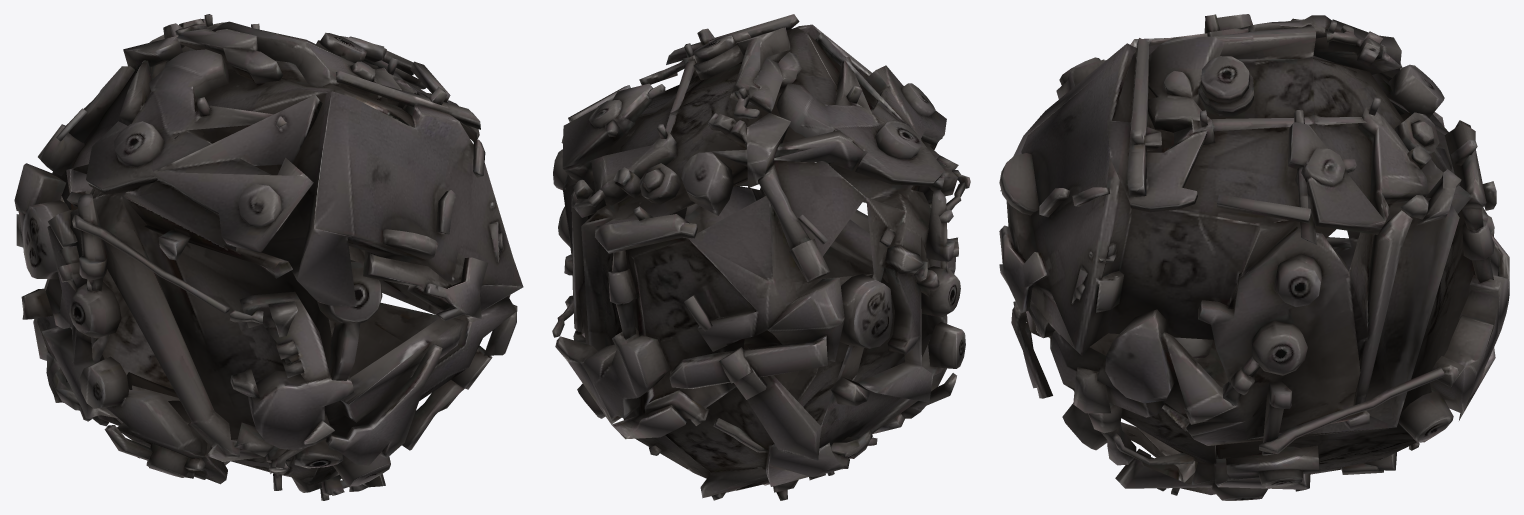
Rendered from original_glb.glb.
The picture shows the model from 3 angles, left to right: view 1: azimuth 30°, elevation 25°; view 2: azimuth 150°, elevation 25°; view 3: azimuth 270°, elevation 25°; orthographic projection. The views are drawn at different scales.
Parts seen in each view (by area): view 1: Violet Tool Core; view 2: Violet Tool Core; view 3: Violet Tool Core.
Part boxes in pixels (<box>): Violet Tool Core: <box>14,14,523,500</box>; Violet Tool Core: <box>552,14,970,500</box>; Violet Tool Core: <box>999,14,1509,500</box>.
Size of the model in its own units: 0.9395 by 0.998 by 0.998.
1 material, 1 textured.
